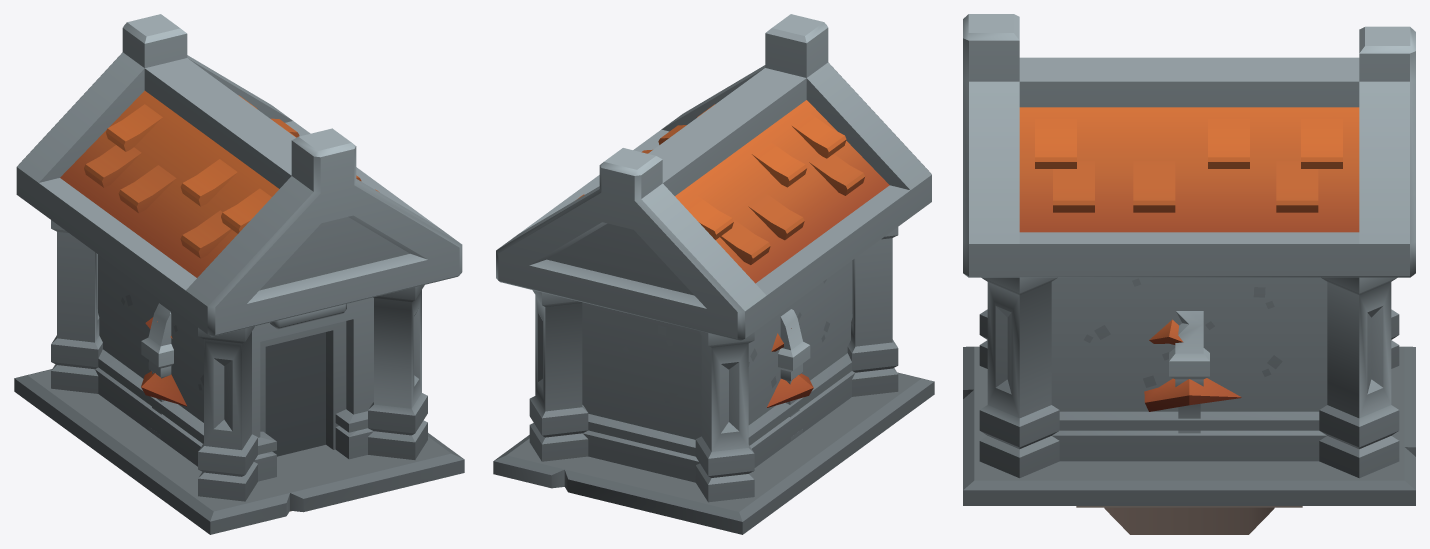
The model's file is graveyard.glb.
The picture shows the model from 3 angles, left to right: view 1: azimuth 30°, elevation 25°; view 2: azimuth 150°, elevation 25°; view 3: azimuth 270°, elevation 25°; orthographic projection. The views are drawn at different scales.
Parts seen in each view (by area): view 1: crypt, Cube.632, tree_pine_orange_large; view 2: crypt, Cube.632, tree_pine_orange_large; view 3: crypt, floor_dirt_grave, Cube.632, tree_pine_orange_large.
Boxes of the visible parts, x1=… form: crypt: x1=14, y1=14, x2=464, y2=534; Cube.632: x1=141, y1=303, x2=173, y2=439; tree_pine_orange_large: x1=141, y1=317, x2=187, y2=406; crypt: x1=493, y1=14, x2=934, y2=534; Cube.632: x1=778, y1=309, x2=810, y2=441; tree_pine_orange_large: x1=767, y1=328, x2=813, y2=407; crypt: x1=963, y1=14, x2=1415, y2=505; floor_dirt_grave: x1=1104, y1=507, x2=1274, y2=534; Cube.632: x1=1169, y1=311, x2=1209, y2=433; tree_pine_orange_large: x1=1144, y1=319, x2=1241, y2=411.
Bounding box in the file's own units: 6 × 9.5 × 8.
1 material, 1 textured.
